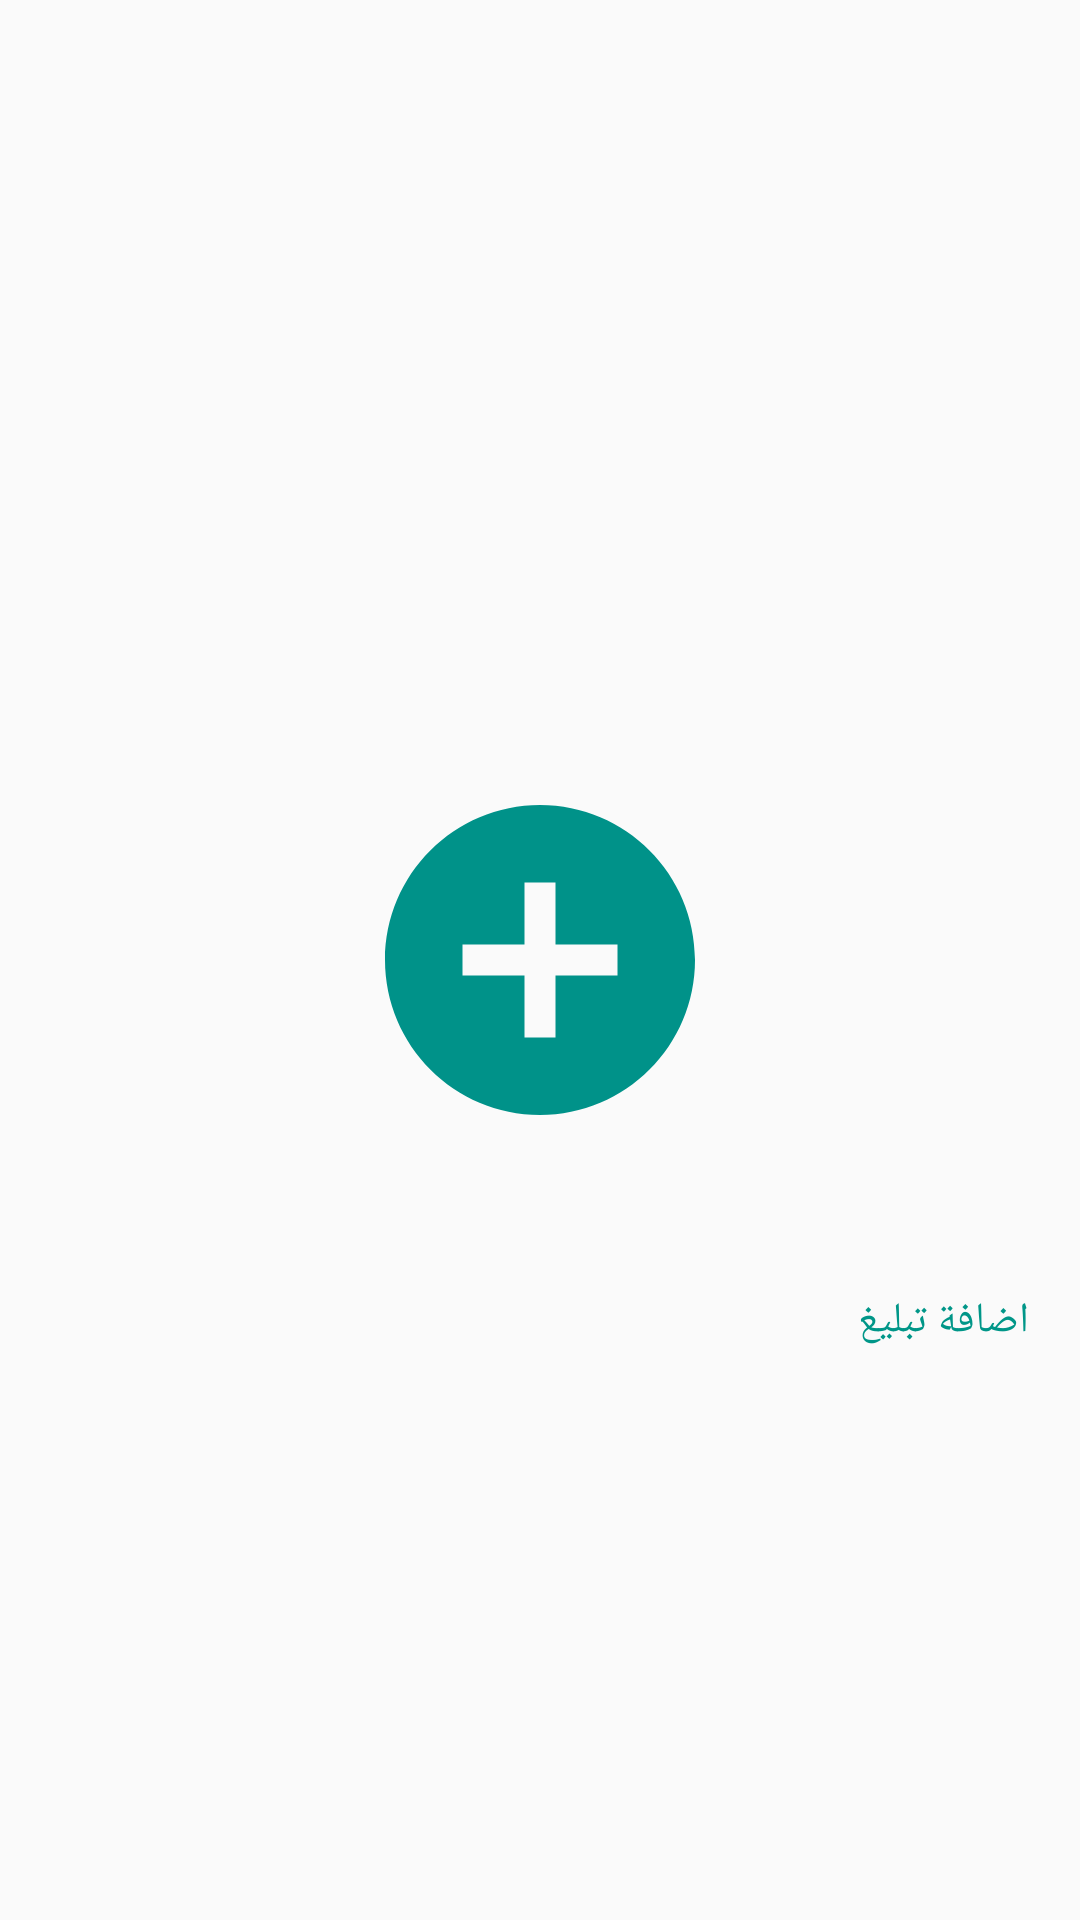

Icon click points for this 1080px x 1920px phone screenshot, format (x,y):
add circle: (540,960)
